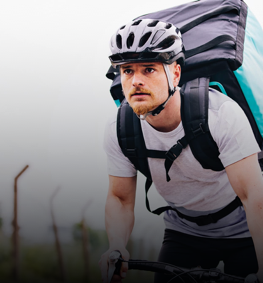helmet: (108, 18, 184, 117)
